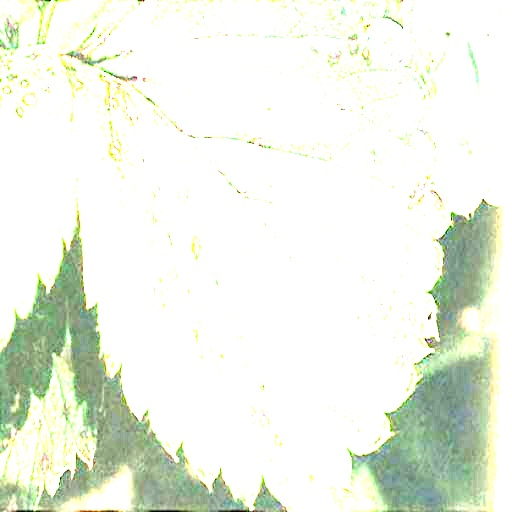Leaf Spot: (59, 0, 453, 511), (0, 242, 107, 511), (400, 0, 511, 216), (0, 44, 77, 352)
